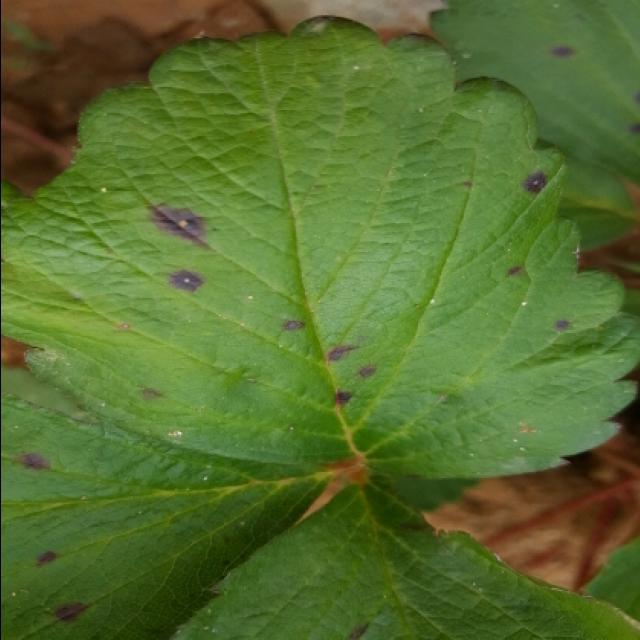Leaf Spot: (2, 13, 640, 481), (2, 362, 337, 640), (163, 475, 640, 640), (427, 2, 640, 256)
